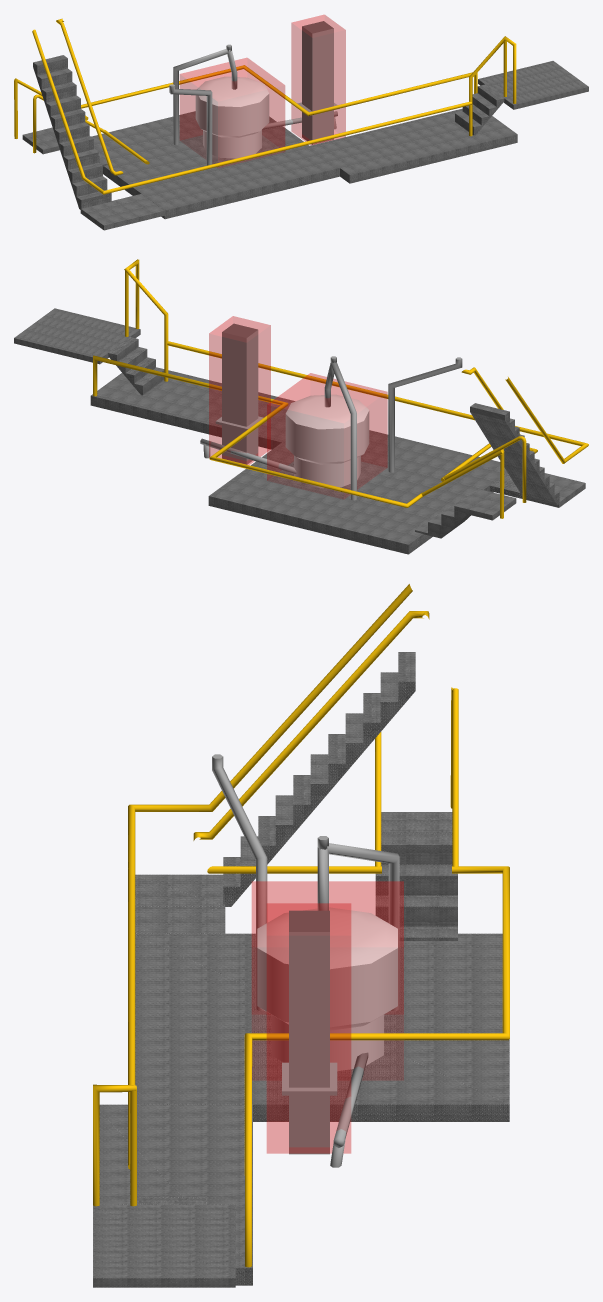
The model's file is NST-1.2F.glb.
3 views of the same model, one above another, from view 1: azimuth 30°, elevation 25°; view 2: azimuth 150°, elevation 25°; view 3: azimuth 270°, elevation 25° (orthographic). The views are drawn at different scales.
Parts seen in each view (by area): view 1: floor-Box050, equipment-1M-ts-410, 1M, equipment-1M-be-406, StraightStair040, equi-1M-ts-410, 1M-be-406, pipe-1M-ts-410, StraightStair044; view 2: floor-Box050, equipment-1M-ts-410, equipment-1M-be-406, 1M, equi-1M-ts-410, 1M-be-406, StraightStair040, pipe-1M-ts-410, StraightStair044; view 3: floor-Box050, equipment-1M-be-406, 1M, equipment-1M-ts-410, equi-1M-ts-410, StraightStair040, 1M-be-406, StraightStair044, pipe-1M-ts-410.
Part boxes in pixels (left/top/right/bottom): floor-Box050: left=91, top=61, right=588, bottom=222; equipment-1M-ts-410: left=180, top=58, right=284, bottom=167; 1M: left=14, top=18, right=516, bottom=194; equipment-1M-be-406: left=291, top=15, right=345, bottom=145; StraightStair040: left=33, top=55, right=136, bottom=230; equi-1M-ts-410: left=195, top=76, right=269, bottom=158; 1M-be-406: left=297, top=21, right=339, bottom=144; pipe-1M-ts-410: left=169, top=44, right=337, bottom=169; StraightStair044: left=22, top=127, right=107, bottom=166; floor-Box050: left=14, top=308, right=548, bottom=554; equipment-1M-ts-410: left=267, top=373, right=387, bottom=498; equipment-1M-be-406: left=209, top=316, right=270, bottom=464; 1M: left=93, top=259, right=588, bottom=518; equi-1M-ts-410: left=285, top=394, right=369, bottom=488; 1M-be-406: left=215, top=323, right=263, bottom=464; StraightStair040: left=470, top=403, right=585, bottom=507; pipe-1M-ts-410: left=200, top=356, right=462, bottom=500; StraightStair044: left=415, top=489, right=516, bottom=538; floor-Box050: left=93, top=906, right=509, bottom=1287; equipment-1M-be-406: left=267, top=903, right=350, bottom=1153; 1M: left=93, top=584, right=509, bottom=1267; equipment-1M-ts-410: left=252, top=881, right=403, bottom=1079; equi-1M-ts-410: left=257, top=907, right=397, bottom=1070; StraightStair040: left=135, top=652, right=415, bottom=906; 1M-be-406: left=282, top=910, right=337, bottom=1154; StraightStair044: left=375, top=812, right=457, bottom=940; pipe-1M-ts-410: left=212, top=754, right=399, bottom=1167.
Bounding box in the file's own units: 11.85 × 3.59 × 4.42.
Materials: 6 (1 with a texture image).
